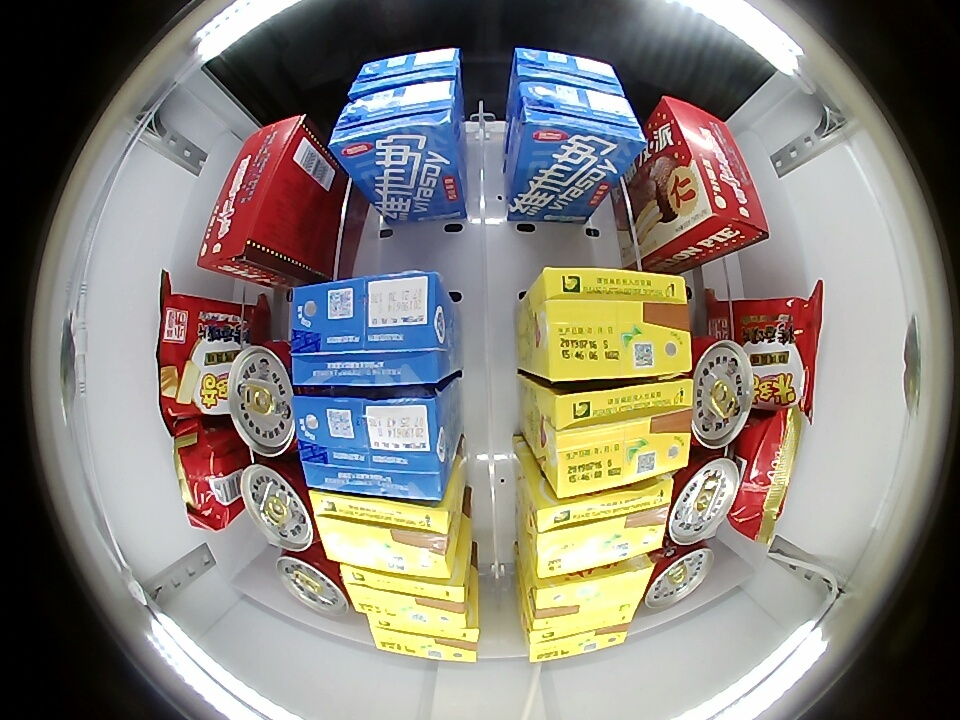haoliyou: (198, 114, 327, 278), (649, 96, 771, 252)
kaomo_shaokao: (157, 296, 264, 418), (712, 298, 818, 414), (730, 410, 801, 535), (173, 424, 245, 532)
wangzainiunai: (227, 341, 299, 457), (240, 455, 322, 551), (664, 450, 740, 546), (690, 340, 754, 449), (275, 542, 354, 617), (641, 537, 715, 610)
weitanai: (288, 272, 455, 389), (293, 388, 454, 500), (507, 80, 646, 179), (329, 78, 462, 175), (347, 48, 464, 101), (509, 47, 626, 100)
weitaningmeng: (529, 266, 694, 382), (538, 377, 693, 497), (522, 475, 672, 581), (311, 489, 466, 582), (522, 559, 652, 635), (340, 566, 476, 632), (365, 617, 480, 663), (524, 617, 633, 663)
